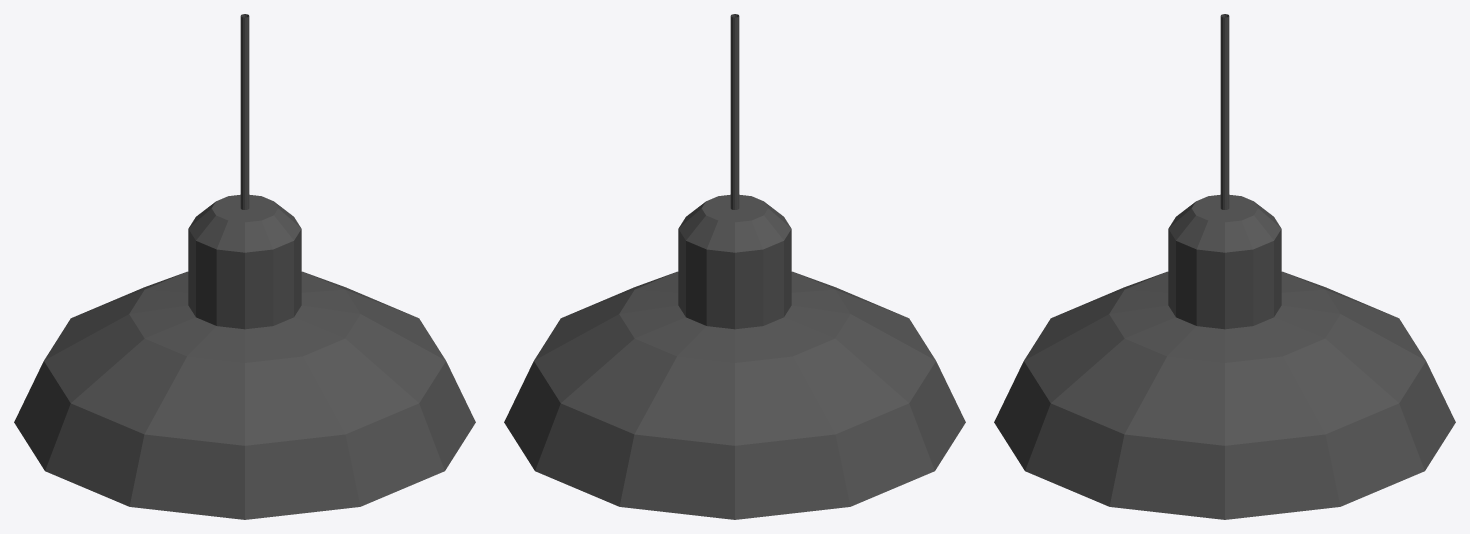
The model's file is Lamp_01.fbx.
3 views of the same model, side by side, from view 1: azimuth 30°, elevation 25°; view 2: azimuth 150°, elevation 25°; view 3: azimuth 270°, elevation 25° (orthographic).
Parts seen in each view (by area): view 1: Sphère_2; view 2: Sphère_2; view 3: Sphère_2.
Part boxes in pixels (x1,y1,x2,y2): Sphère_2: (14, 14, 475, 519); Sphère_2: (504, 14, 965, 519); Sphère_2: (994, 14, 1455, 519).
Size of the model in its own units: 32.61 by 31.89 by 32.61.
1 material, 1 textured.
